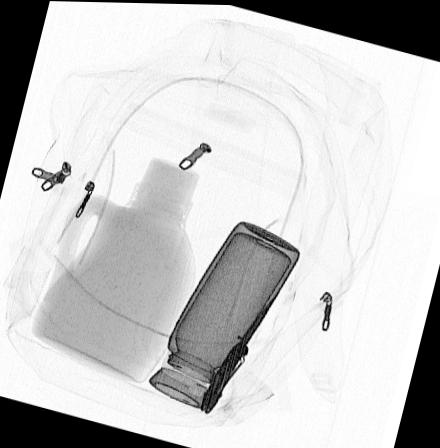Knife: (197, 338, 250, 414)
